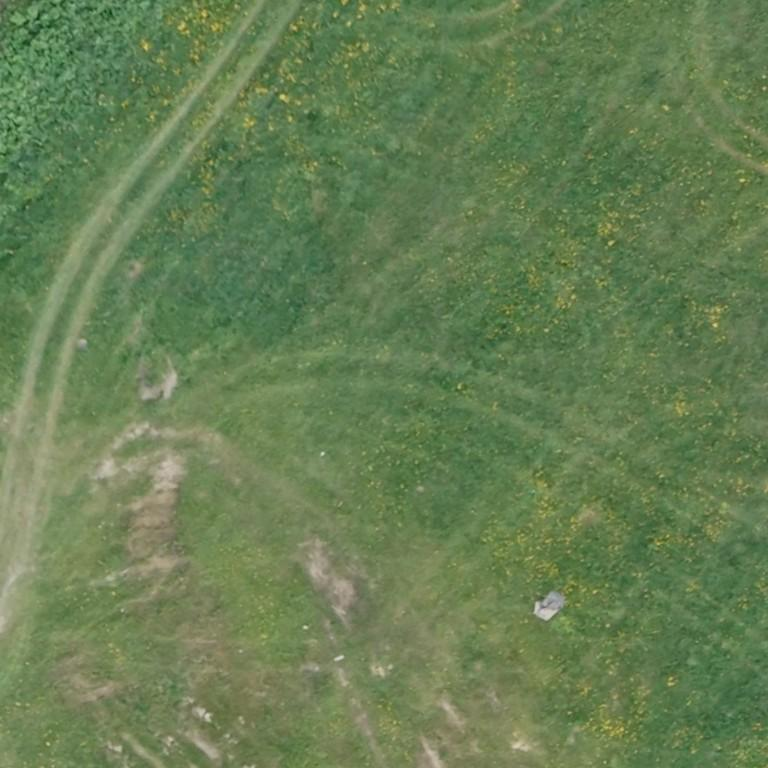hogweed: (0, 0, 168, 185)
